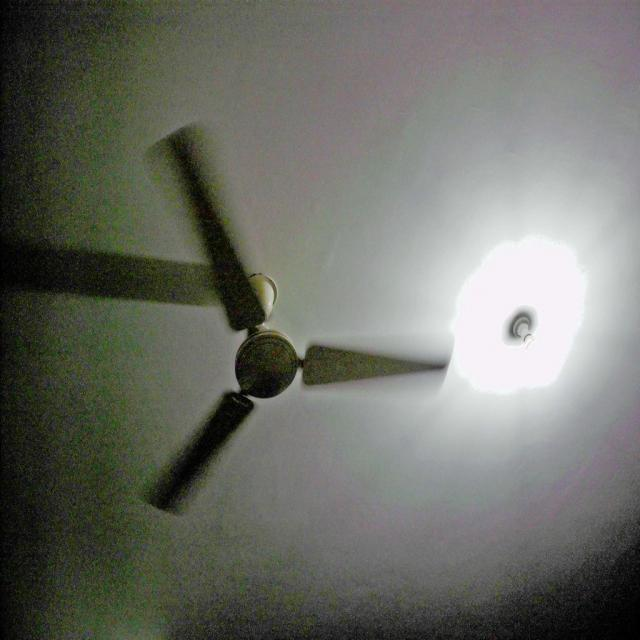bulb_on: (514, 318, 549, 362)
fan_on: (136, 125, 448, 515)
